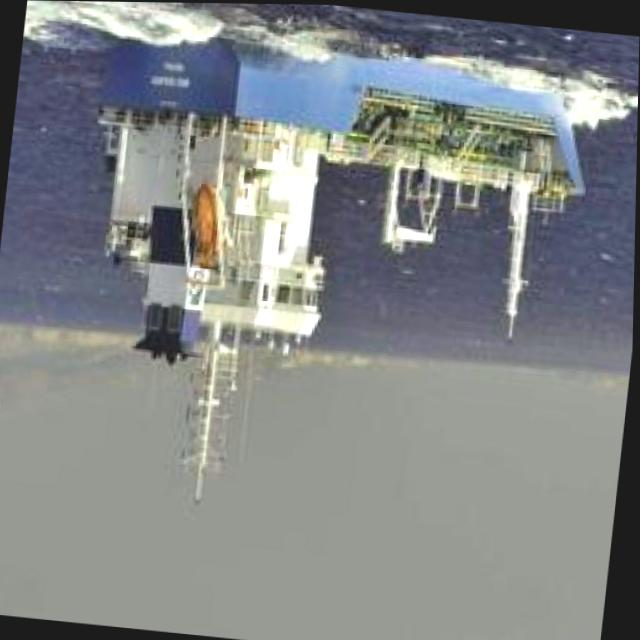ship2: (96, 36, 589, 505)
